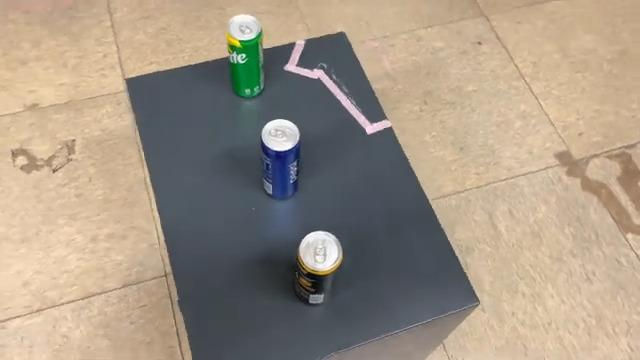OranSoda: (290, 226, 344, 312)
Pepsi: (257, 115, 305, 202)
Sprite: (224, 9, 270, 101)
